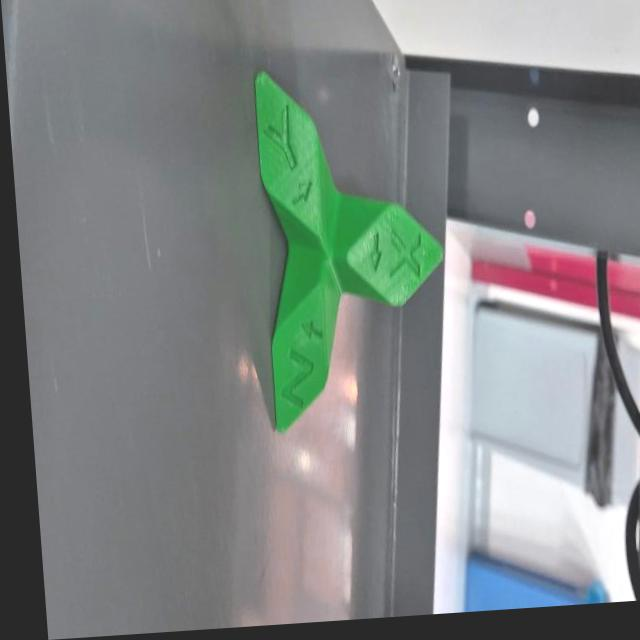eje: (243, 54, 460, 441)
